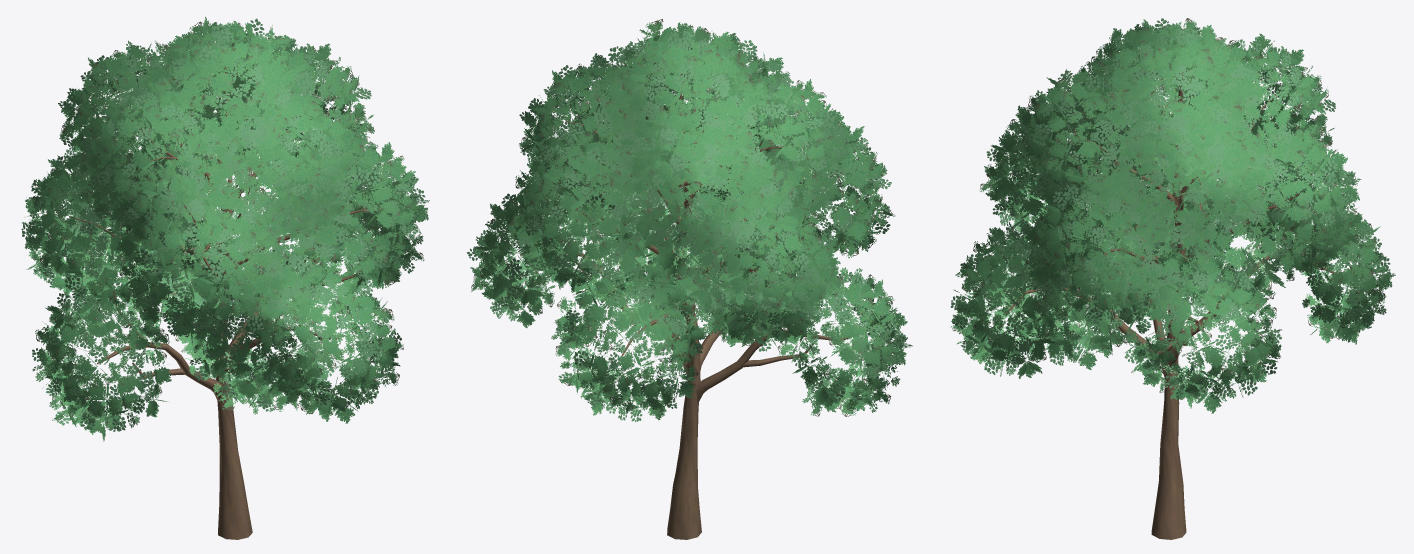
Rendered from Scene_dashu_004.FBX.
3 views of the same model, side by side, from view 1: azimuth 30°, elevation 25°; view 2: azimuth 150°, elevation 25°; view 3: azimuth 270°, elevation 25° (orthographic).
Visible parts, largest first — view 1: Scene_dashu_004_LOD_0; view 2: Scene_dashu_004_LOD_0; view 3: Scene_dashu_004_LOD_0.
Boxes of the visible parts, x1,y1,x2,y2 form: Scene_dashu_004_LOD_0: (21,16,429,539); Scene_dashu_004_LOD_0: (467,19,912,539); Scene_dashu_004_LOD_0: (950,18,1395,539).
Size of what is drawn, in the model's own units: 1003 by 1236 by 999.
